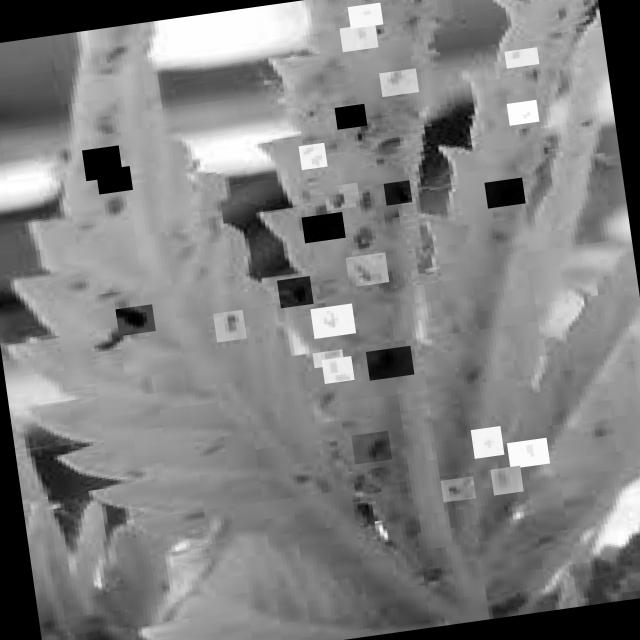aphid: (366, 344, 414, 380), (310, 302, 356, 338), (346, 252, 390, 286), (82, 144, 123, 180), (351, 429, 392, 464), (302, 211, 346, 242), (484, 176, 526, 208), (507, 437, 550, 468), (116, 303, 156, 335), (276, 275, 314, 307), (339, 22, 378, 52), (379, 67, 419, 96), (214, 308, 248, 342), (470, 425, 504, 458), (324, 182, 361, 210), (96, 166, 133, 193), (491, 464, 524, 494), (348, 1, 383, 28), (441, 476, 476, 502), (322, 356, 354, 384), (335, 103, 368, 129), (507, 99, 540, 125), (299, 142, 328, 170), (504, 46, 540, 68), (383, 180, 412, 204), (313, 348, 345, 367)
